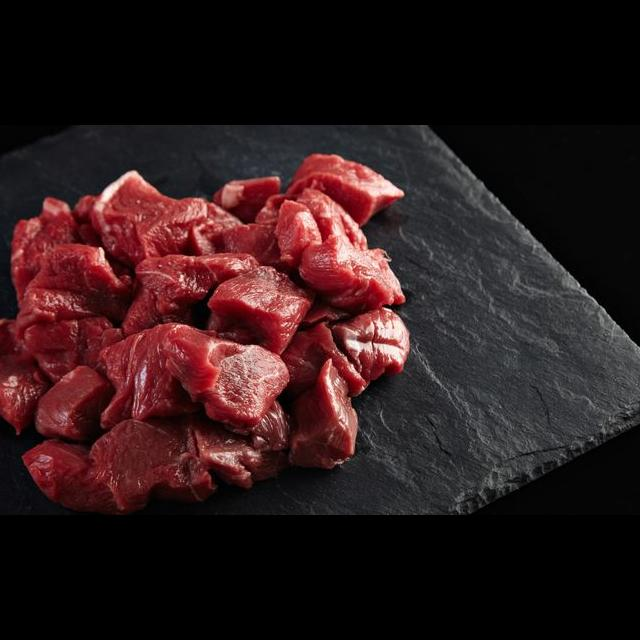beef: (268, 183, 426, 331), (9, 190, 146, 353), (86, 327, 298, 432), (89, 162, 237, 268), (284, 147, 438, 239), (265, 356, 387, 464), (180, 263, 319, 342), (0, 432, 130, 515), (0, 314, 64, 454), (328, 304, 422, 389), (212, 144, 299, 229)
